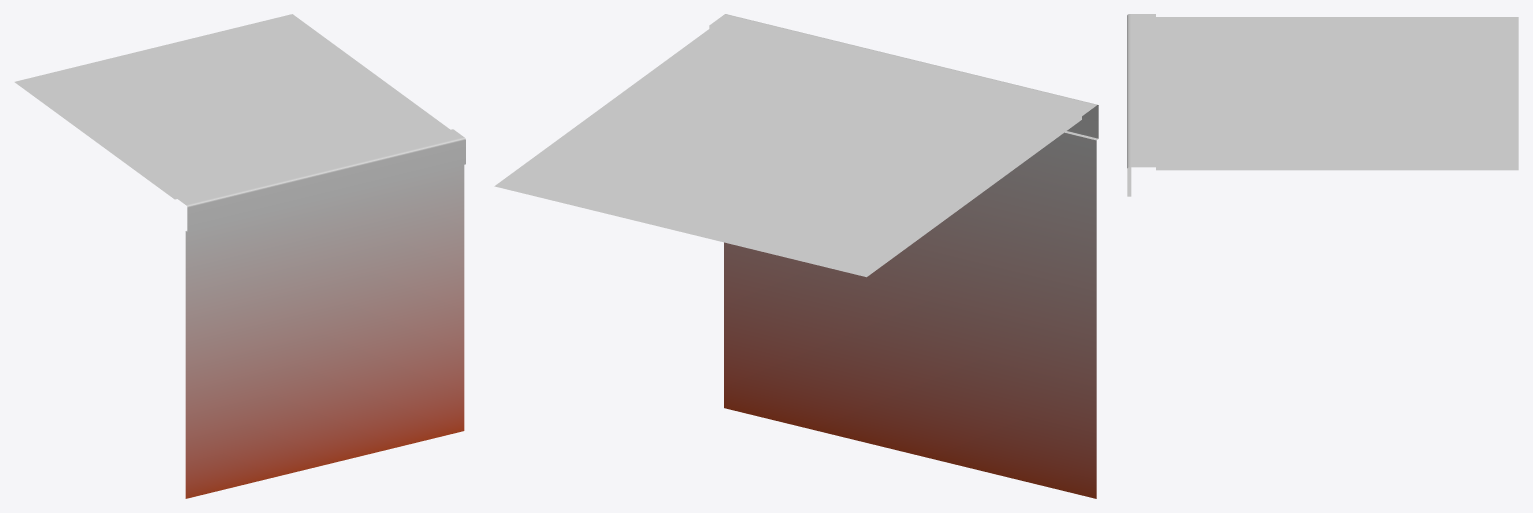
The model's file is floorExtendGlowTile.fbx.
3 renders of one model, left to right at view 1: azimuth 30°, elevation 25°; view 2: azimuth 150°, elevation 25°; view 3: azimuth 270°, elevation 25°, orthographic. The views are drawn at different scales.
Parts seen in each view (by area): view 1: floorExtendGlowTile; view 2: floorExtendGlowTile; view 3: floorExtendGlowTile.
Boxes of the visible parts, <box> form: floorExtendGlowTile: <box>14,14,465,498</box>; floorExtendGlowTile: <box>494,14,1098,498</box>; floorExtendGlowTile: <box>1127,14,1518,196</box>.
Size of the model in its own units: 500 by 504 by 539.
